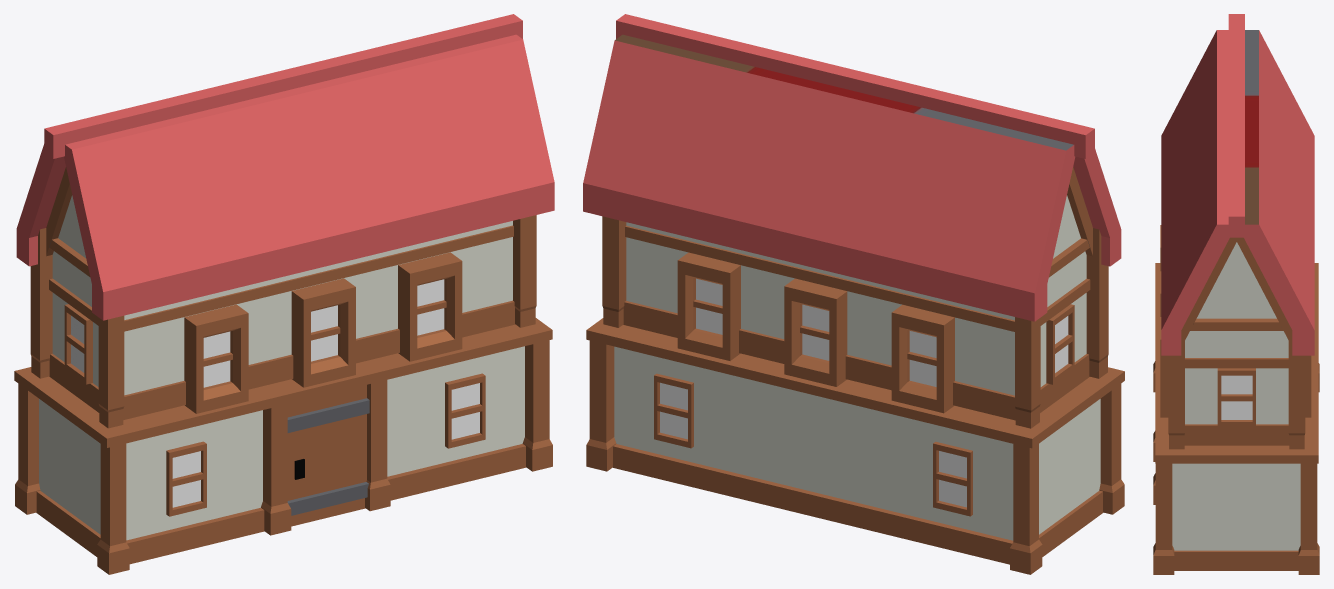
The model's file is casaTest.fbx.
3 renders of one model, left to right at view 1: azimuth 30°, elevation 25°; view 2: azimuth 150°, elevation 25°; view 3: azimuth 270°, elevation 25°, orthographic. The views are drawn at different scales.
Parts seen in each view (by area): view 1: polySurface45; view 2: polySurface45; view 3: polySurface45.
Part boxes in pixels (<box>): polySurface45: <box>14,14,554,574</box>; polySurface45: <box>583,14,1124,574</box>; polySurface45: <box>1153,14,1319,574</box>.
Bounding box in the file's own units: 11.62 × 9.76 × 4.03.
